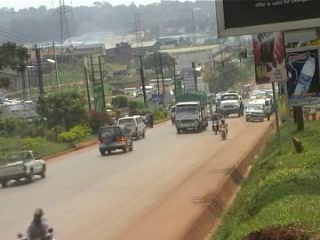Car: (92, 122, 135, 154)
Motorcycle: (17, 203, 56, 238), (207, 113, 218, 137), (218, 118, 229, 140)
